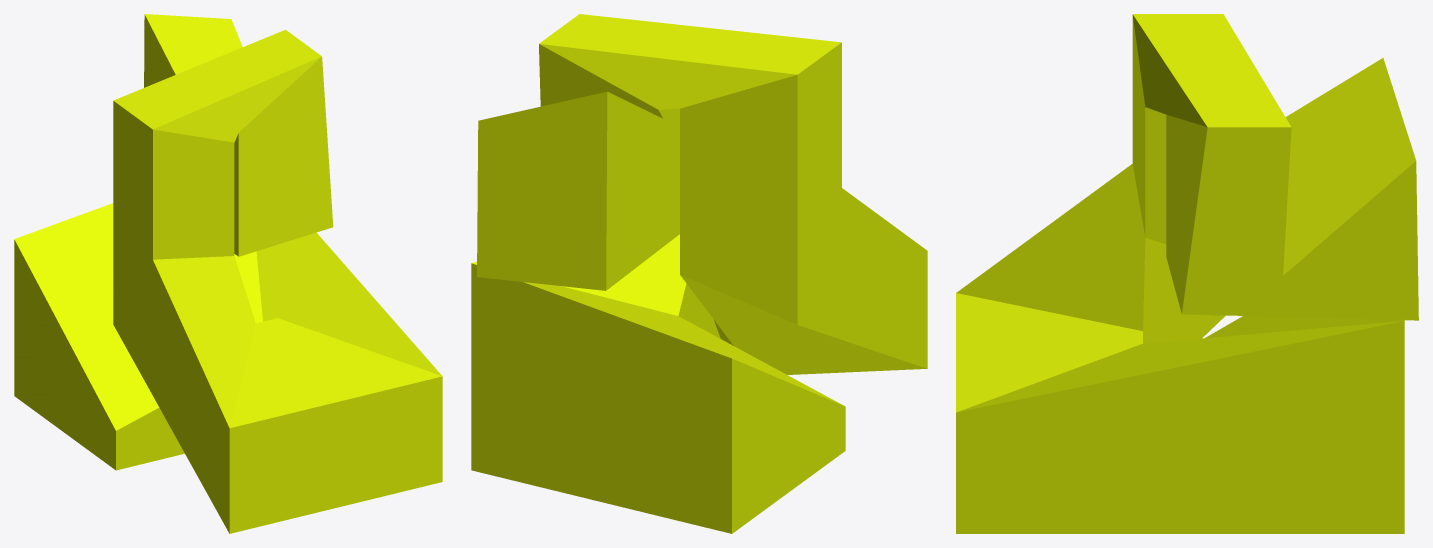
The model's file is Decoration_1.FBX.
3 renders of one model, left to right at view 1: azimuth 30°, elevation 25°; view 2: azimuth 150°, elevation 25°; view 3: azimuth 270°, elevation 25°, orthographic. The views are drawn at different scales.
Visible parts, largest first — view 1: hall way decoration; view 2: hall way decoration; view 3: hall way decoration.
Part boxes in pixels (x1,y1,x2,y2): hall way decoration: (14,14,442,533); hall way decoration: (471,14,927,533); hall way decoration: (956,14,1418,533).
Bounding box in the file's own units: 0.76 × 1.12 × 1.14.
